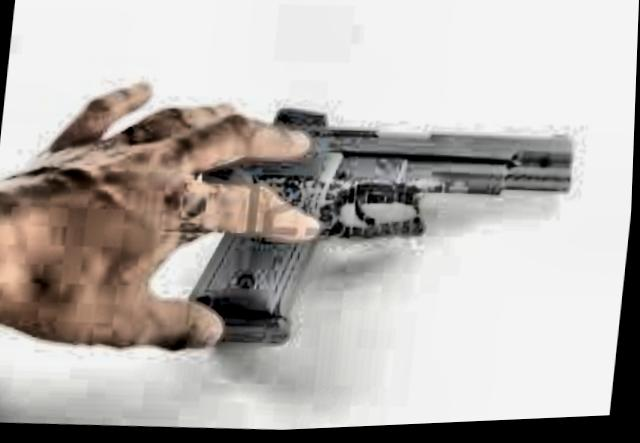pistol: (157, 89, 581, 363)
